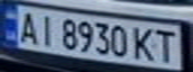0: (109, 22, 130, 58)
3: (90, 20, 112, 56)
8: (57, 16, 78, 52)
9: (75, 19, 96, 54)
A: (15, 8, 42, 45)
I: (33, 12, 60, 47)
K: (130, 25, 160, 62)
T: (151, 27, 181, 63)
